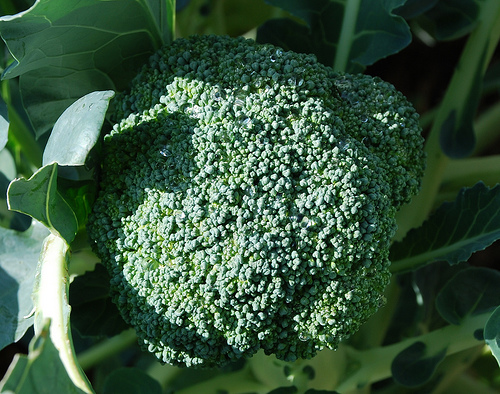broccoli: (97, 33, 421, 373)
